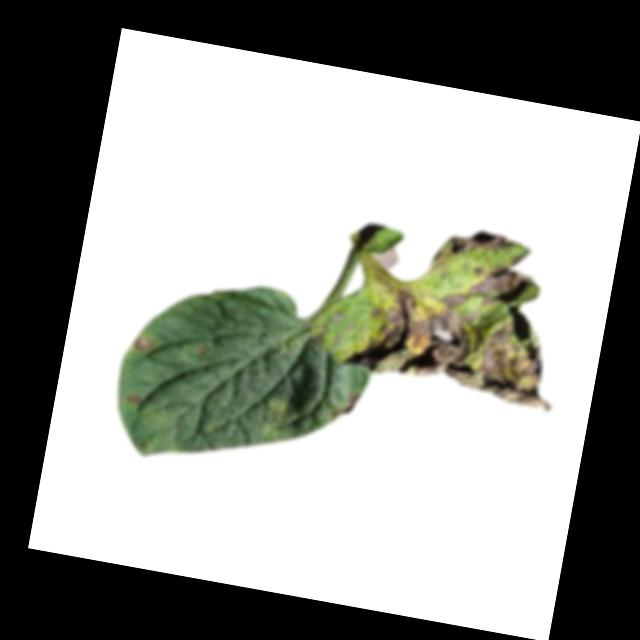Early_blight: (342, 231, 576, 413), (429, 218, 519, 283), (328, 390, 360, 429), (128, 333, 155, 355), (311, 324, 328, 349), (124, 393, 141, 406)
